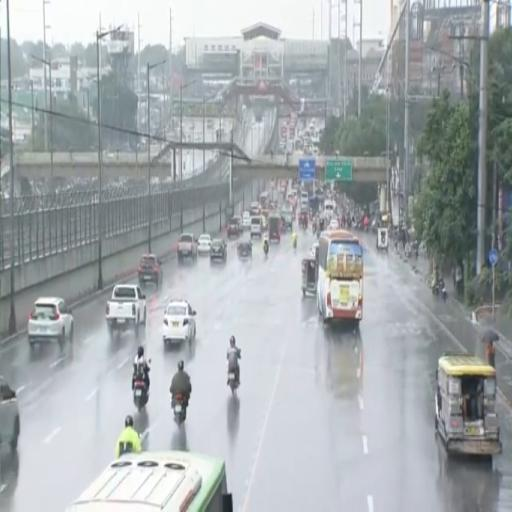bus: (68, 452, 232, 511), (317, 230, 363, 325), (259, 191, 269, 210)
car: (27, 297, 73, 346), (163, 299, 196, 344), (0, 377, 20, 451), (138, 254, 162, 285), (177, 233, 197, 262), (210, 238, 226, 262), (237, 240, 252, 259), (198, 234, 211, 255), (251, 216, 263, 237), (228, 217, 241, 236), (233, 216, 243, 234), (243, 211, 250, 230), (328, 219, 339, 230), (311, 242, 318, 258)
jeepney: (435, 354, 501, 455)
motorcycle: (133, 375, 148, 411), (134, 377, 148, 410), (173, 393, 185, 426), (228, 372, 239, 395), (264, 244, 269, 257), (292, 238, 296, 249)
truck: (106, 284, 146, 337)
